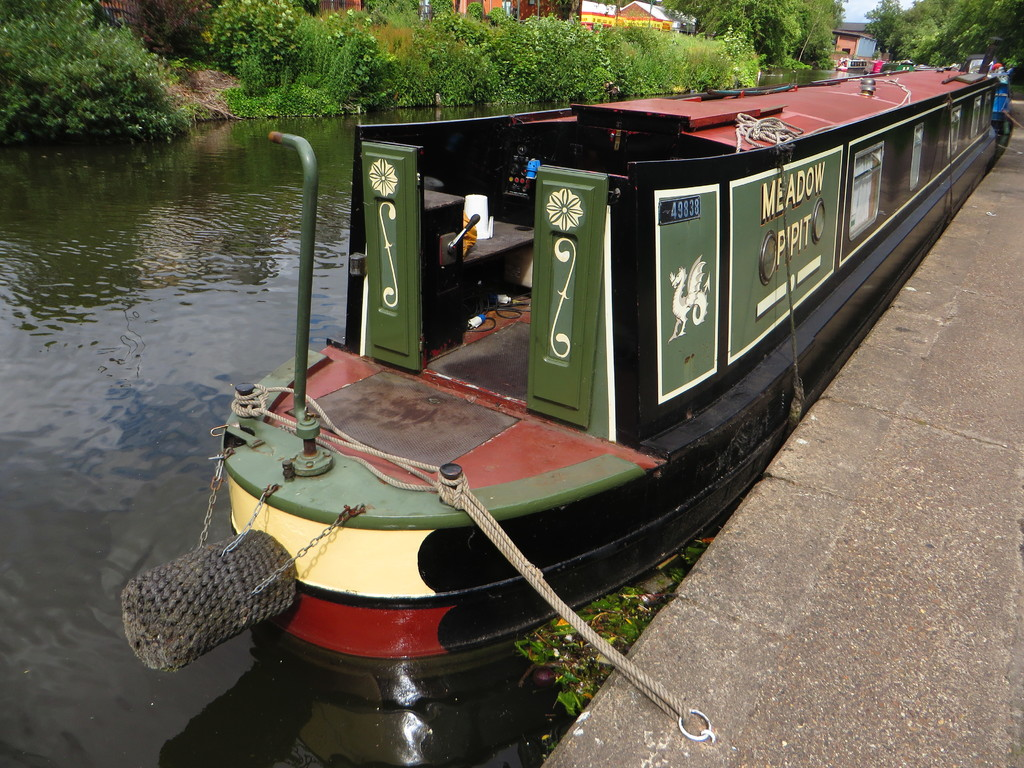boat: (93, 33, 1009, 723)
